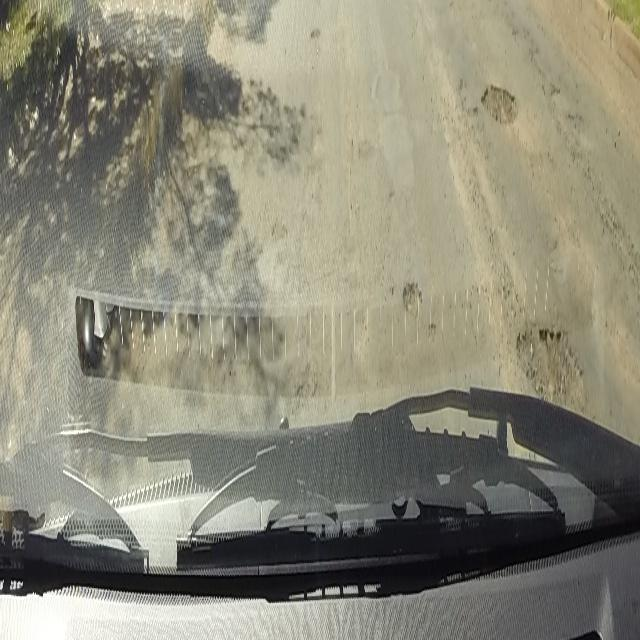pothole: (513, 312, 587, 408), (480, 75, 518, 128), (402, 279, 422, 319)
